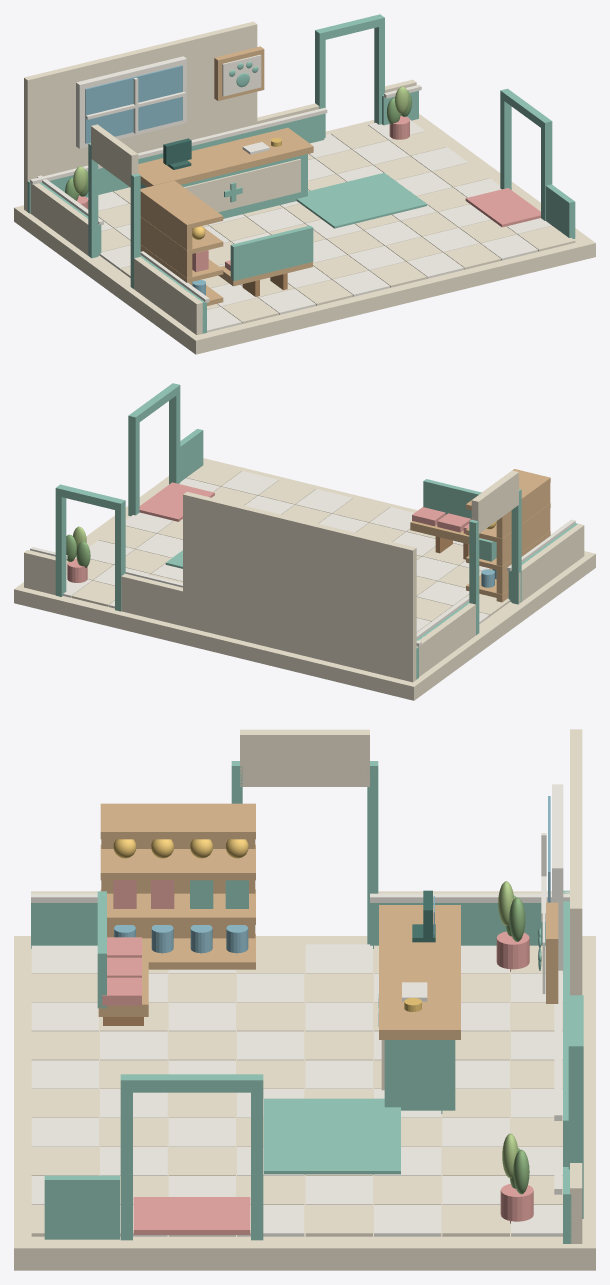
File: clinic.glb
3 views of the same model, one above another, from view 1: azimuth 30°, elevation 25°; view 2: azimuth 150°, elevation 25°; view 3: azimuth 270°, elevation 25° (orthographic). The views are drawn at different scales.
Visible parts, largest first — view 1: back wall, foundation, window sky, countertop, round rug, counter front panel, bench back, left wall, shop back, left wall.001, shop shelf.003, window frame (+62 smaller); view 2: back wall, foundation, left wall, cutaway room partition, shop back, left wall.001, connecting doorway lintel, bench back, welcome mat, room doorway end, exam door frame.001, side entrance post.001 (+37 smaller); view 3: foundation, round rug, countertop, connecting doorway lintel, shop shelf.003, reception counter, side wall cutaway, welcome mat, shop shelf.002, back wall, shop shelf.001, left dado.001 (+87 smaller).
Boxes of the visible parts, left/top/right/bottom form: back wall: left=24, top=21, right=257, bottom=211; foundation: left=14, top=114, right=595, bottom=354; window sky: left=85, top=65, right=182, bottom=143; countertop: left=138, top=127, right=313, bottom=186; round rug: left=296, top=173, right=426, bottom=228; counter front panel: left=184, top=159, right=300, bottom=212; bench back: left=230, top=225, right=313, bottom=280; left wall: left=134, top=257, right=203, bottom=334; shop back: left=140, top=196, right=192, bottom=285; left wall.001: left=30, top=183, right=88, bottom=255; shop shelf.003: left=140, top=180, right=223, bottom=229; window frame: left=76, top=56, right=186, bottom=148; back wall: left=183, top=492, right=416, bottom=682; foundation: left=14, top=458, right=595, bottom=700; left wall: left=519, top=524, right=584, bottom=603; cutaway room partition: left=121, top=573, right=182, bottom=626; shop back: left=496, top=483, right=550, bottom=602; left wall.001: left=416, top=603, right=475, bottom=676; connecting doorway lintel: left=471, top=470, right=518, bottom=533; bench back: left=423, top=479, right=481, bottom=519; welcome mat: left=139, top=482, right=214, bottom=521; room doorway end: left=24, top=550, right=55, bottom=594; exam door frame.001: left=55, top=495, right=66, bottom=596; side entrance post.001: left=128, top=419, right=139, bottom=516; foundation: left=14, top=936, right=595, bottom=1270; round rug: left=264, top=1098, right=400, bottom=1174; countertop: left=379, top=905, right=460, bottom=1039; connecting doorway lintel: left=240, top=729, right=369, bottom=786; shop shelf.003: left=100, top=803, right=255, bottom=839; reception counter: left=384, top=1040, right=455, bottom=1113; side wall cutaway: left=44, top=1175, right=119, bottom=1239; welcome mat: left=133, top=1197, right=250, bottom=1234; shop shelf.002: left=100, top=844, right=255, bottom=880; back wall: left=570, top=729, right=582, bottom=995; shop shelf.001: left=100, top=889, right=255, bottom=924; left dado.001: left=370, top=903, right=545, bottom=948.
Size of the model in its own units: 10.8 by 3.76 by 8.5.
